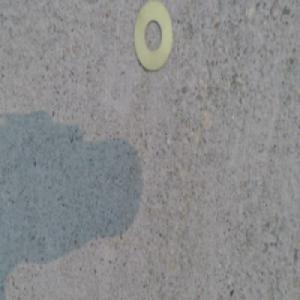Washer: (131, 3, 176, 69)
